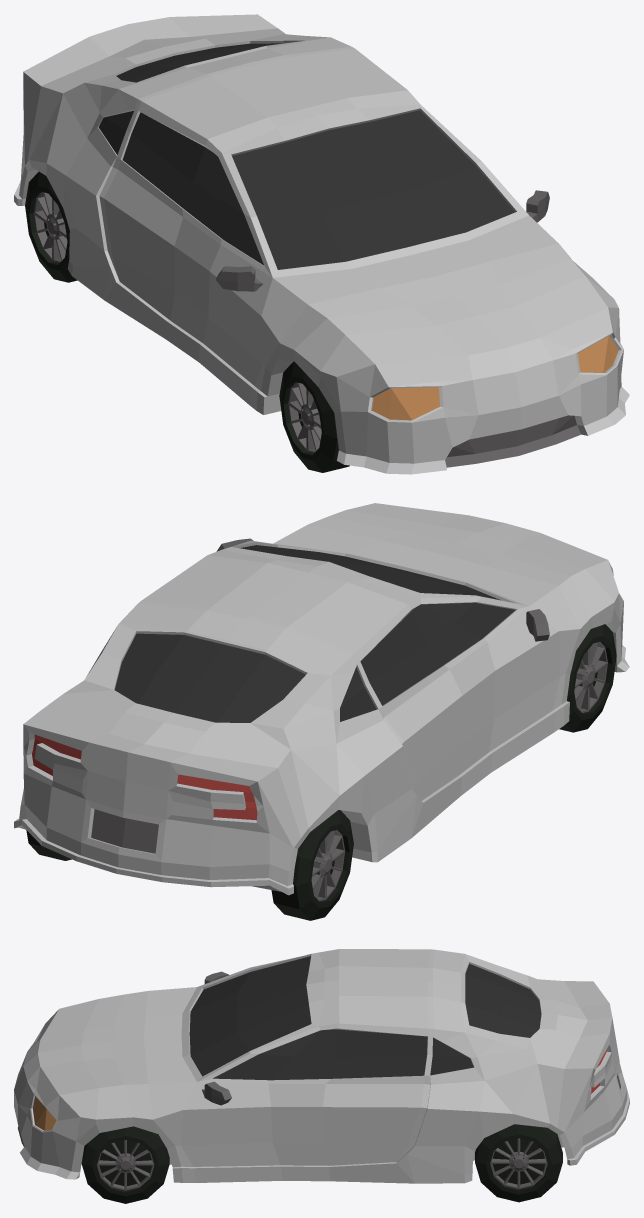
The model's file is car_sport1.glb.
The picture shows the model from 3 angles, top to bottom: view 1: azimuth 30°, elevation 25°; view 2: azimuth 150°, elevation 25°; view 3: azimuth 270°, elevation 25°; orthographic projection. The views are drawn at different scales.
Visible parts, largest first — view 1: SportsCar2_Cube.006; view 2: SportsCar2_Cube.006; view 3: SportsCar2_Cube.006.
Boxes of the visible parts, left/top/right/bottom form: SportsCar2_Cube.006: left=14, top=14, right=629, bottom=474; SportsCar2_Cube.006: left=14, top=503, right=629, bottom=920; SportsCar2_Cube.006: left=14, top=949, right=629, bottom=1203.
Bounding box in the file's own units: 1.87 × 1.2 × 3.93.
Materials: 1 (1 with a texture image).
